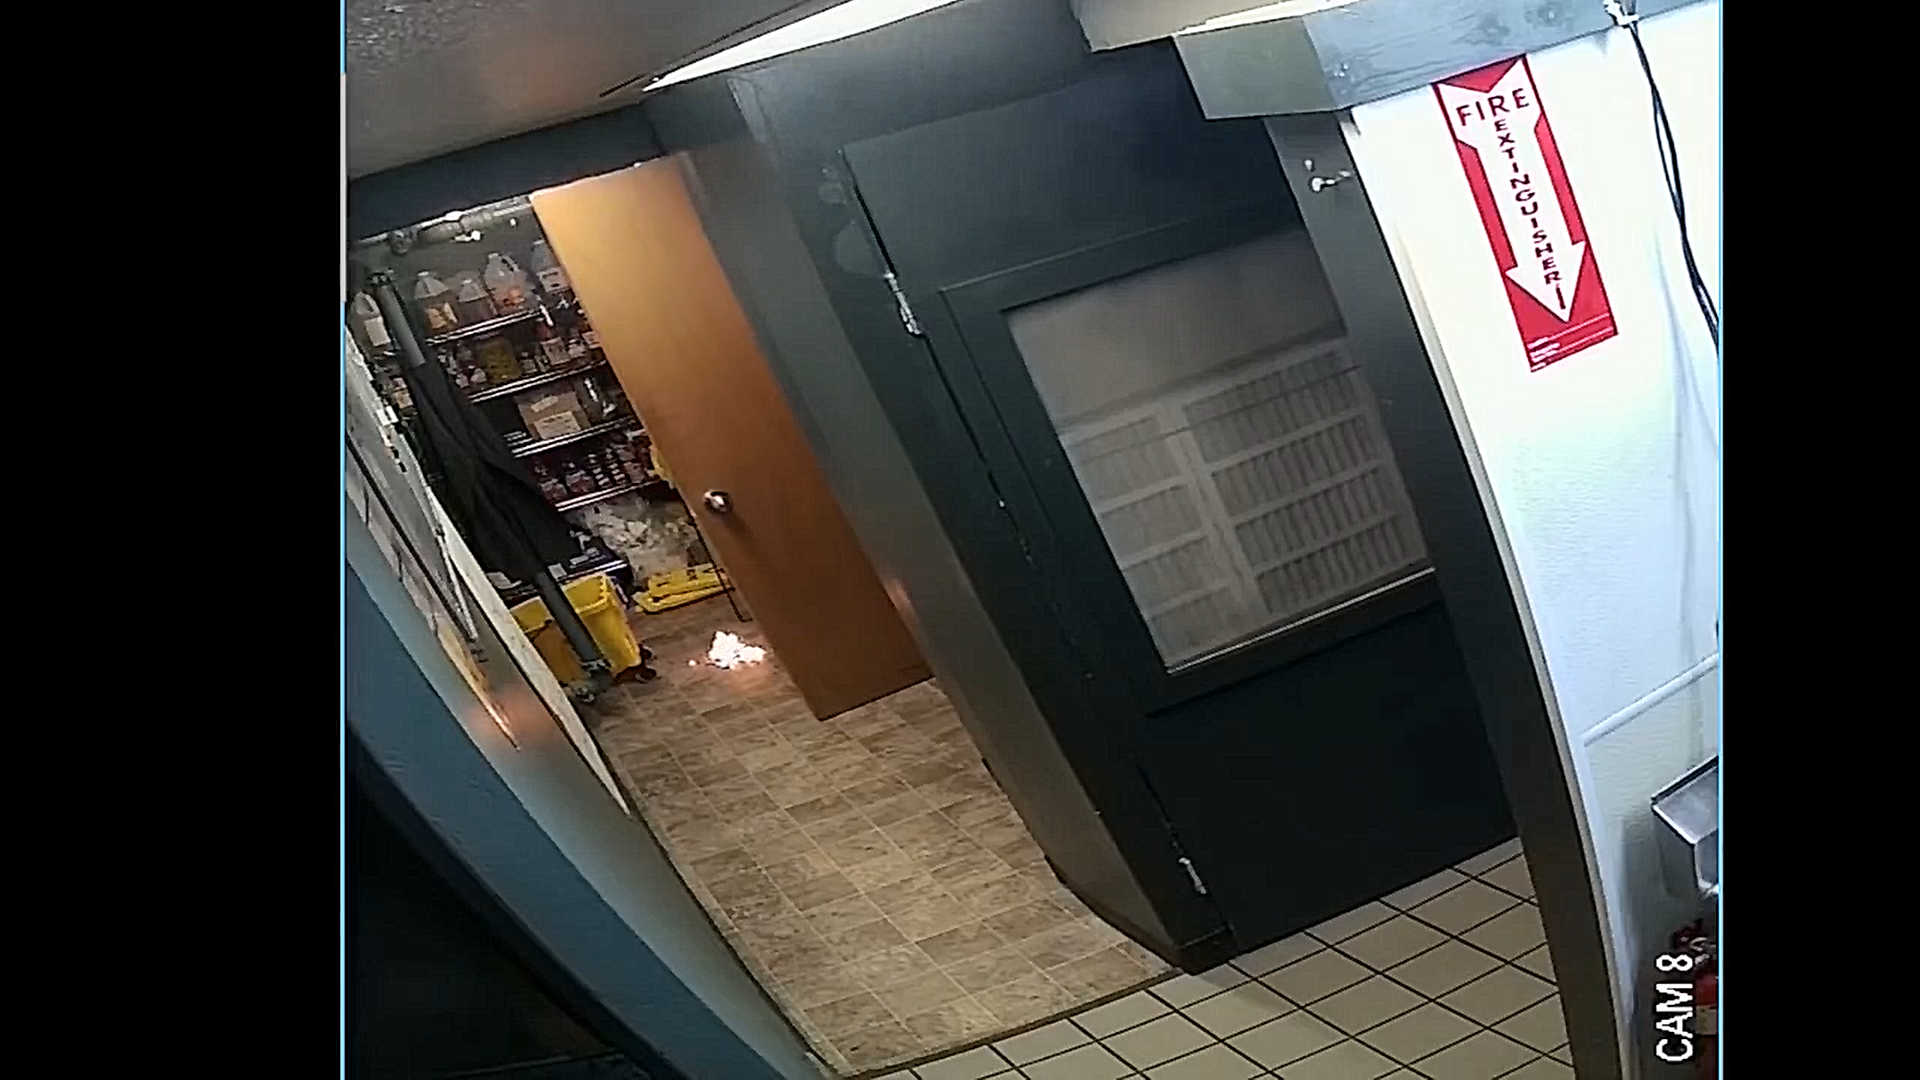fire: (684, 626, 779, 678)
